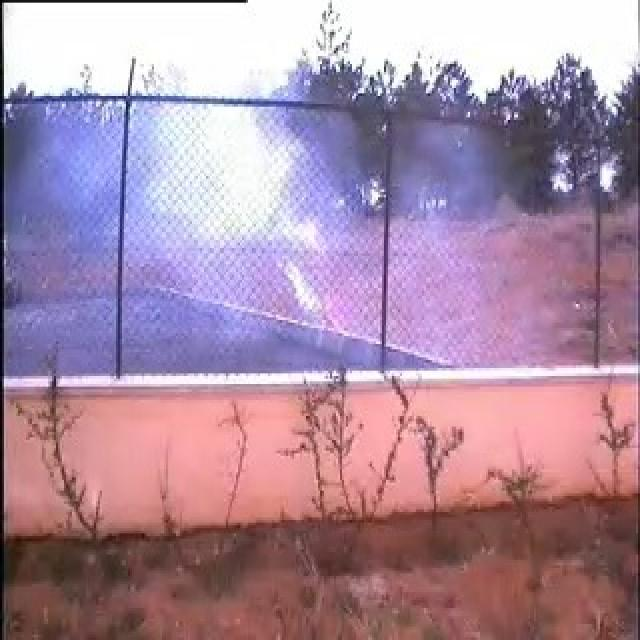smoke: (67, 103, 382, 371)
